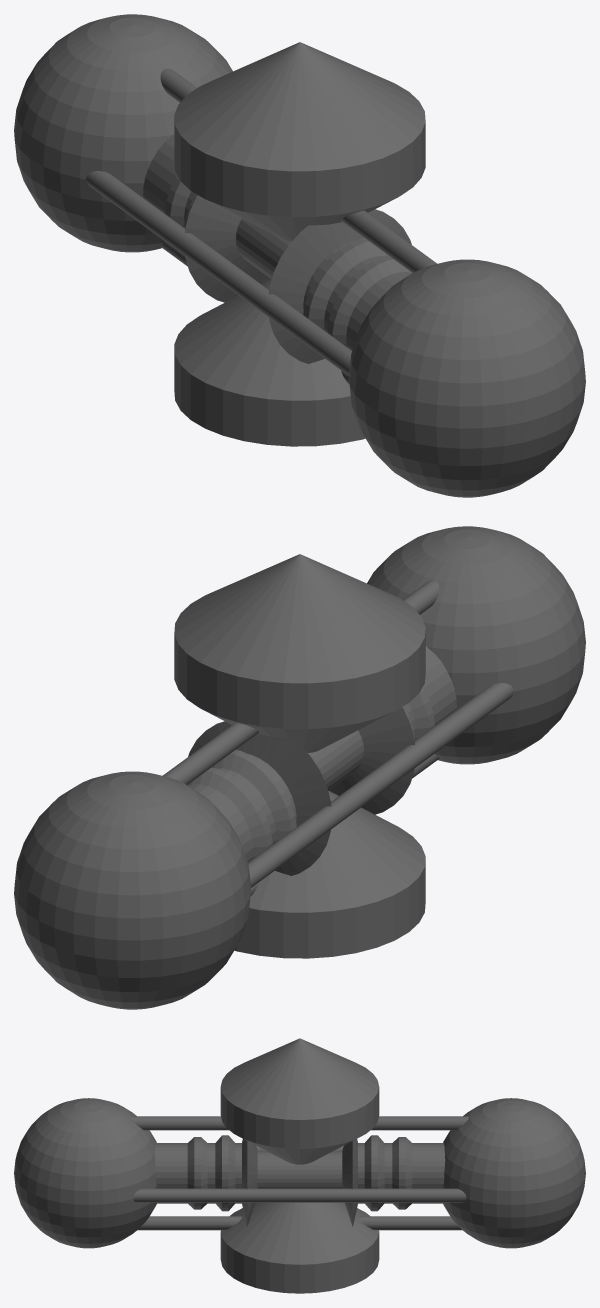
Rendered from nqr.obj.
The picture shows the model from 3 angles, top to bottom: view 1: azimuth 30°, elevation 25°; view 2: azimuth 150°, elevation 25°; view 3: azimuth 270°, elevation 25°; orthographic projection. The views are drawn at different scales.
Visible parts, largest first — view 1: Reacotr_Cylinder; view 2: Reacotr_Cylinder; view 3: Reacotr_Cylinder.
Boxes of the visible parts, x1=… form: Reacotr_Cylinder: x1=14, y1=14, x2=585, y2=497; Reacotr_Cylinder: x1=14, y1=526, x2=585, y2=1009; Reacotr_Cylinder: x1=14, y1=1038, x2=585, y2=1293.
Bounding box in the file's own units: 0.26 × 0.4 × 0.935.
